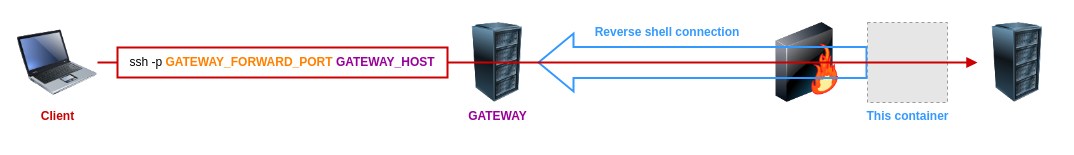
This 1074x155 diagram has some shape labels left out. Grey dashed boxes stand in for pictures. The box of each missing label's shape, as (x1, y1, x2, y2) in pixels:
Firewall: (767, 22, 847, 102)
TARGET: (977, 22, 1057, 102)
